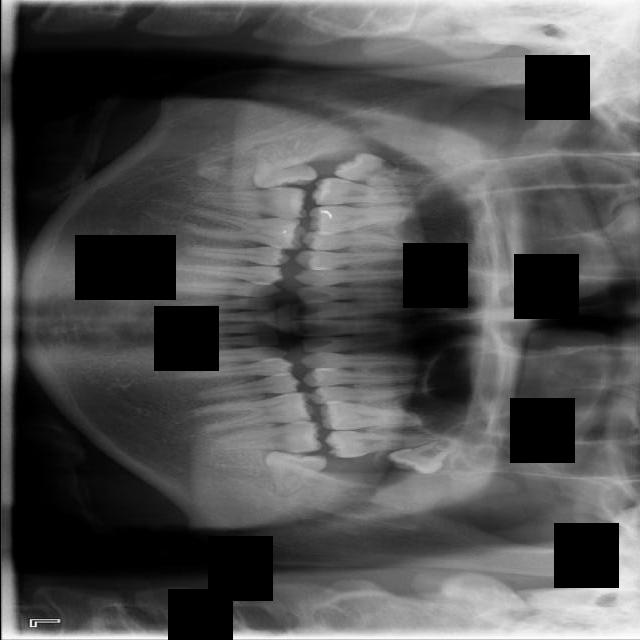3M ESPE Implant: (331, 150, 431, 192)
52: (261, 216, 307, 251), (308, 205, 354, 235)
73: (16, 622, 26, 629)
BioHorizons Implant: (323, 430, 435, 461)
BioLife Implant: (384, 432, 465, 485)
Biomet 3i Implant: (259, 436, 334, 500)
Blue Sky Bio Implant: (212, 419, 323, 463)
Caries: (310, 178, 426, 205)
Implant: (196, 181, 308, 220)
Keystone Dental Implant: (249, 141, 321, 194)
